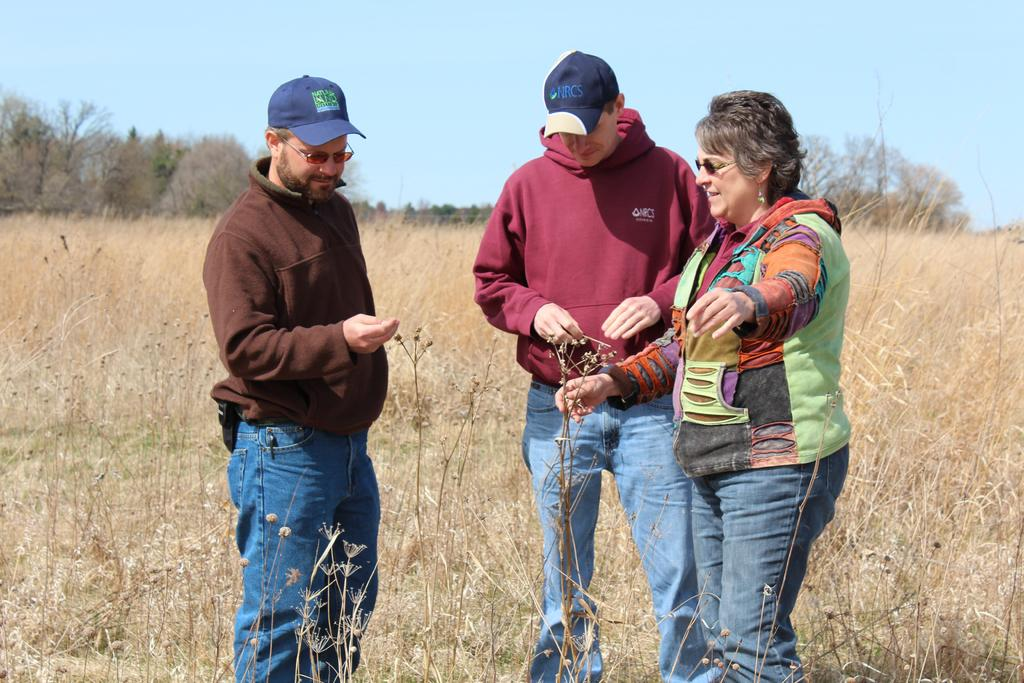Hat: (535, 45, 620, 139), (263, 76, 360, 156)
